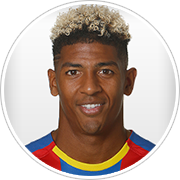face: (42, 49, 140, 124)
